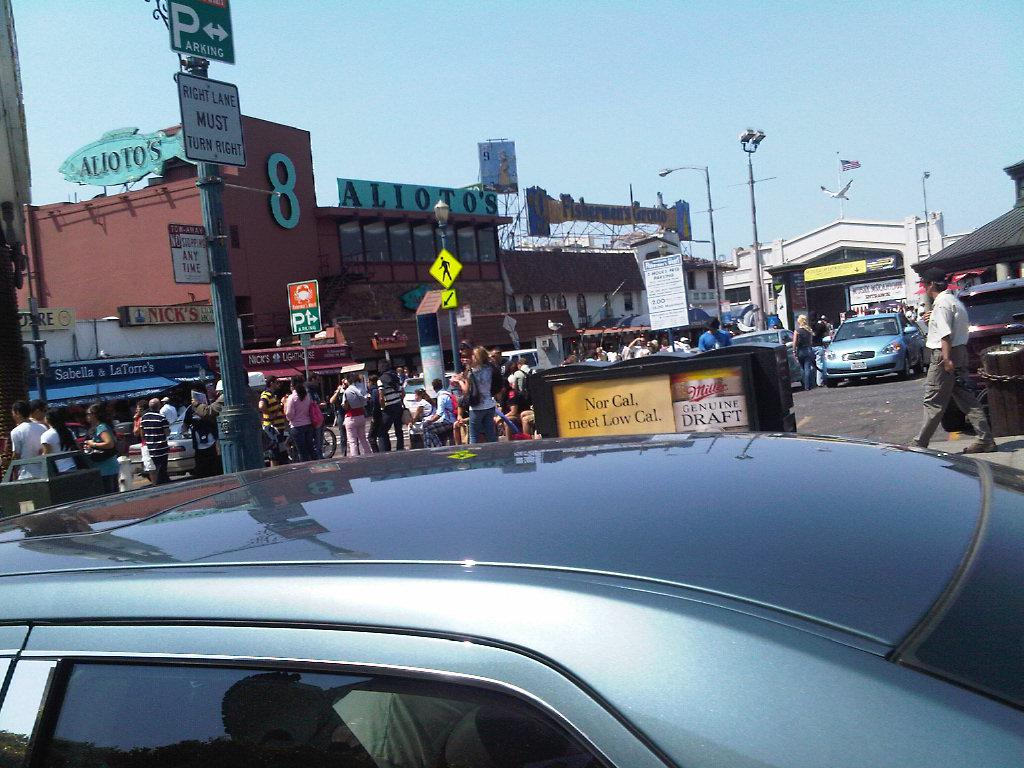Car: (0, 420, 1022, 767), (810, 312, 910, 381), (967, 276, 1022, 358), (766, 330, 800, 367)
